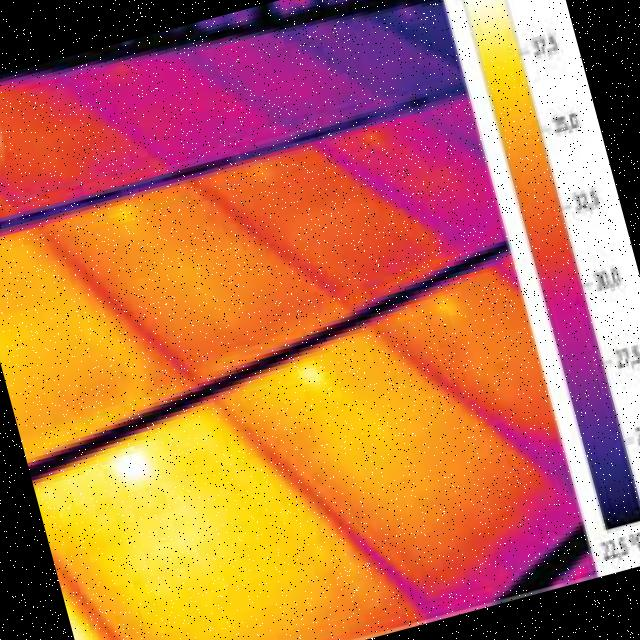Hotspot: (99, 427, 176, 505), (290, 348, 342, 400)
